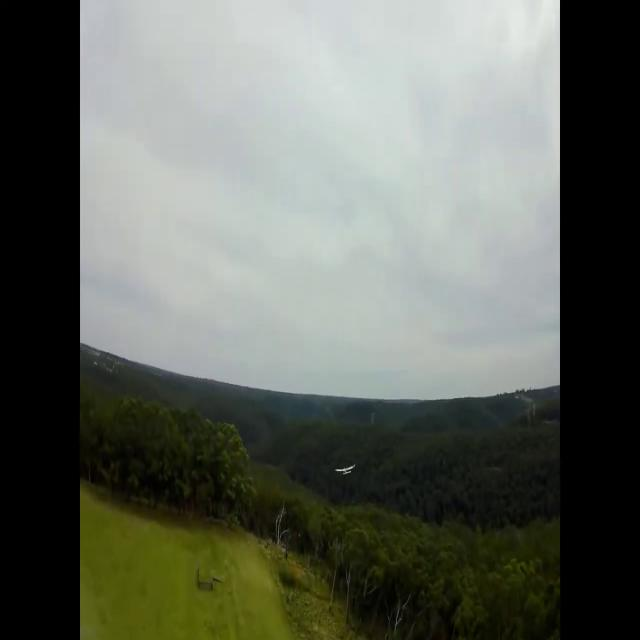iha: (335, 462, 355, 478)
